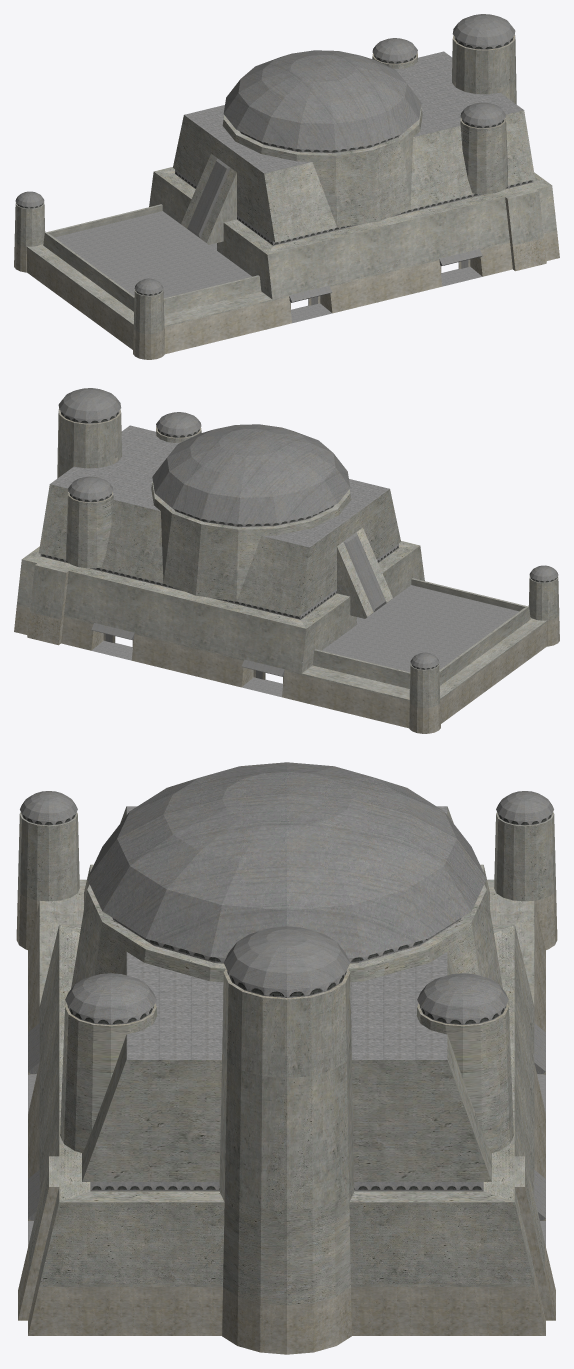
The model's file is mun_all_hospital_s01_r0_mesh_l0.fbx.
3 views of the same model, one above another, from view 1: azimuth 30°, elevation 25°; view 2: azimuth 150°, elevation 25°; view 3: azimuth 270°, elevation 25° (orthographic). The views are drawn at different scales.
Visible parts, largest first — view 1: mesh_node; view 2: mesh_node; view 3: mesh_node.
Boxes of the visible parts, left/top/right/bottom form: mesh_node: left=14, top=14, right=559, bottom=359; mesh_node: left=14, top=388, right=559, bottom=733; mesh_node: left=16, top=762, right=557, bottom=1354.
Size of the model in its own units: 97.9 by 41.44 by 52.24.
